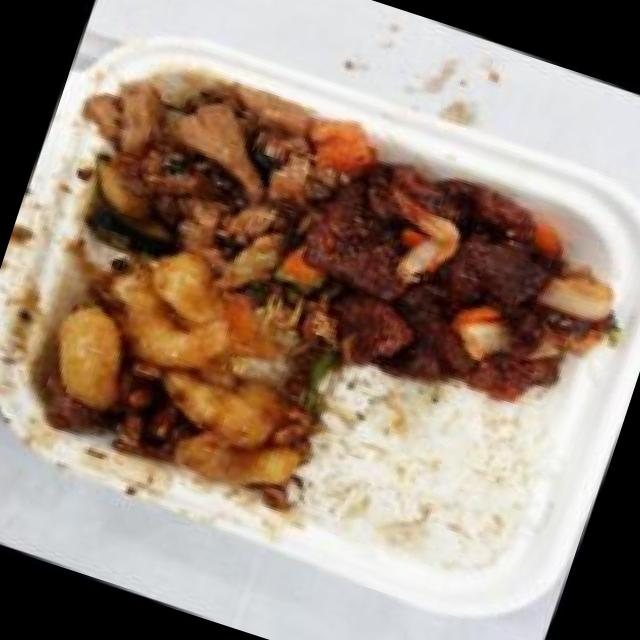Beijing Beef: (276, 124, 640, 438)
Honey Walnut Shrimp: (7, 214, 356, 517)
Kung Pao Chicken: (44, 32, 386, 342)
White Steamed Rice: (288, 354, 560, 594)
